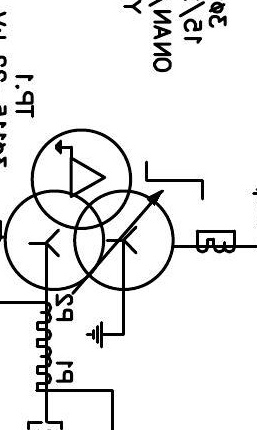11522_tx_ynyn0d1: (2, 127, 176, 292)
